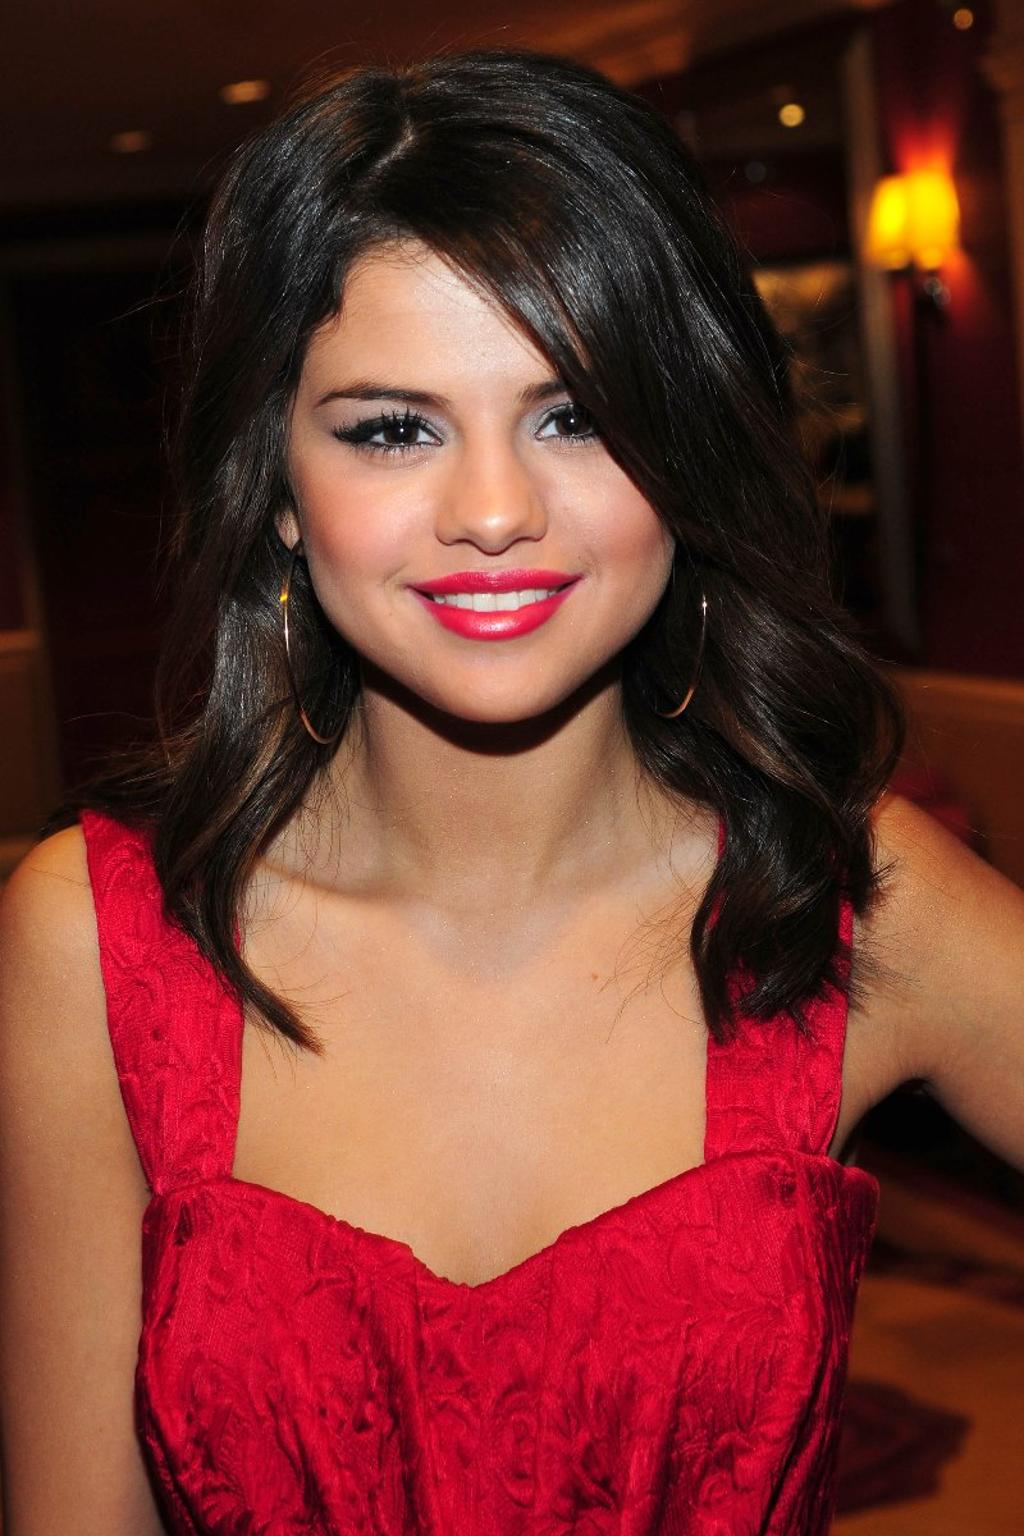face: (282, 216, 687, 723)
